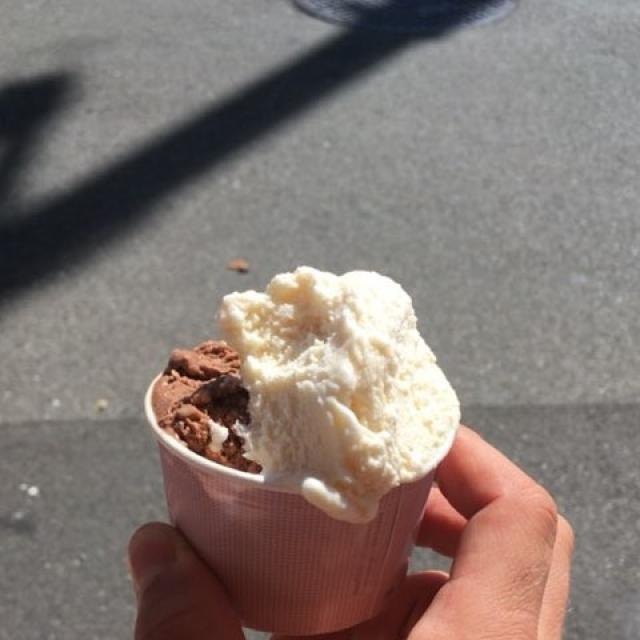ice-cream: (159, 266, 454, 510)
